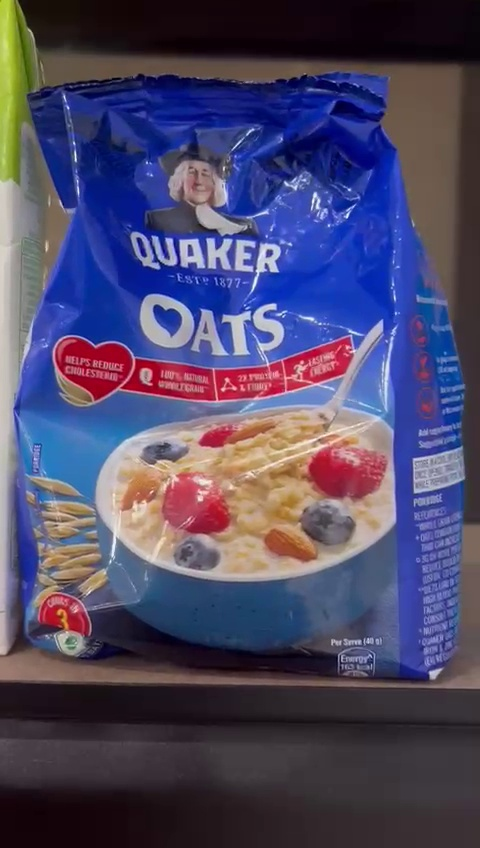Quaker Oats: (13, 75, 471, 684)
